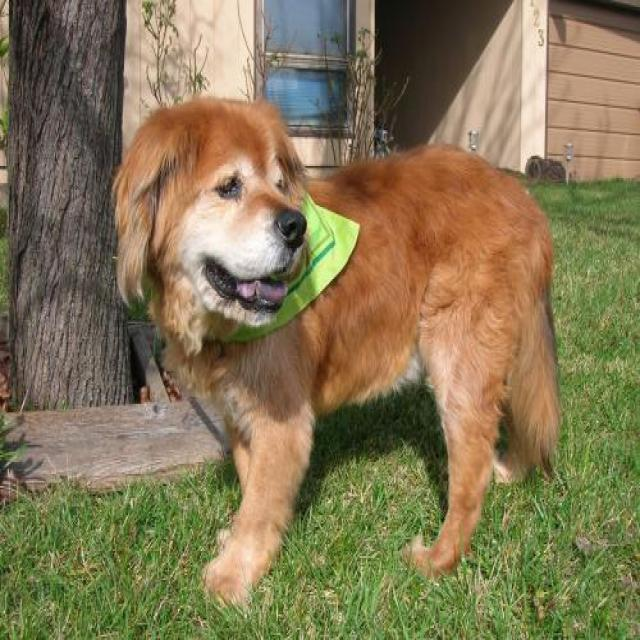dogs: (110, 94, 560, 606)
